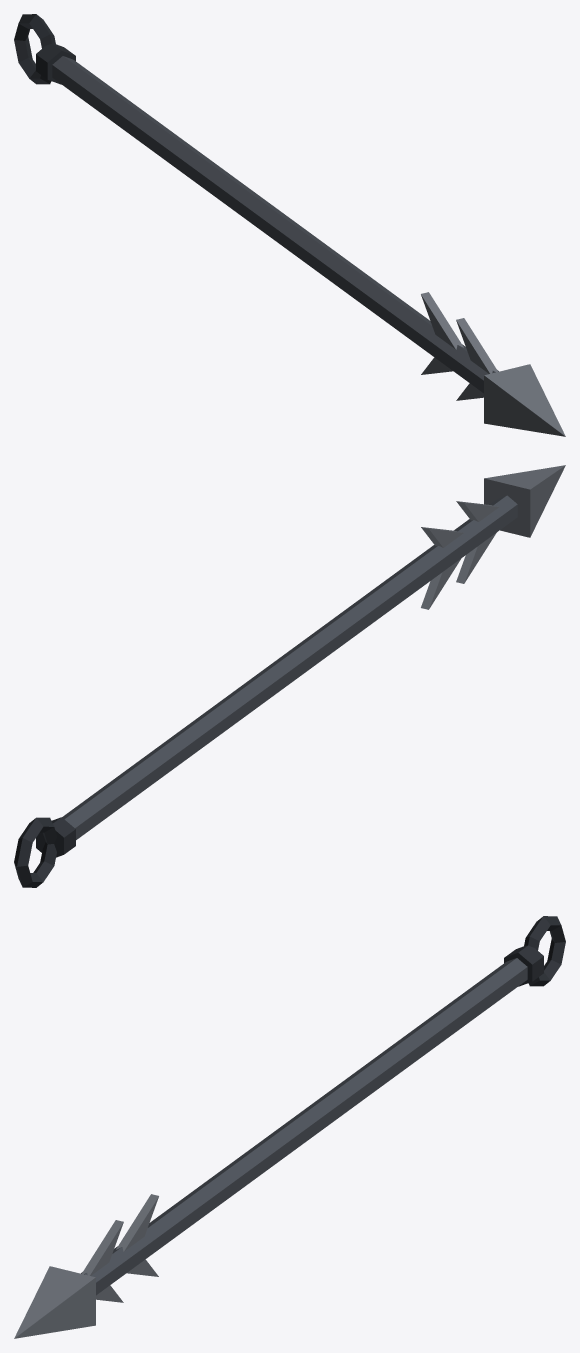
Rendered from harpoon_bolt.glb.
3 renders of one model, top to bottom at view 1: azimuth 30°, elevation 25°; view 2: azimuth 150°, elevation 25°; view 3: azimuth 330°, elevation 25°, orthographic.
Parts seen in each view (by area): view 1: harpoon_bolt; view 2: harpoon_bolt; view 3: harpoon_bolt.
Part boxes in pixels (box(x1,y1,x2,y2)): harpoon_bolt: box(14, 14, 565, 436); harpoon_bolt: box(14, 465, 565, 887); harpoon_bolt: box(14, 916, 565, 1338).
Bounding box in the file's own units: 0.0453 × 0.076 × 0.933.
Materials: 1 (1 with a texture image).
